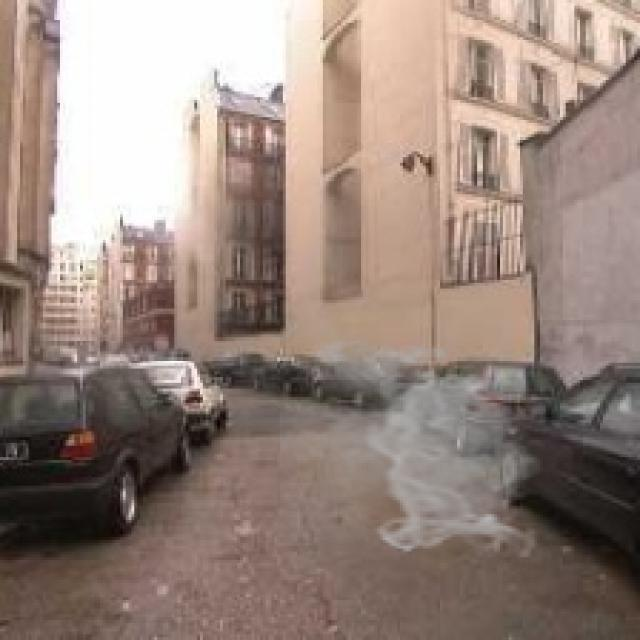Smoke: (280, 332, 546, 557)
